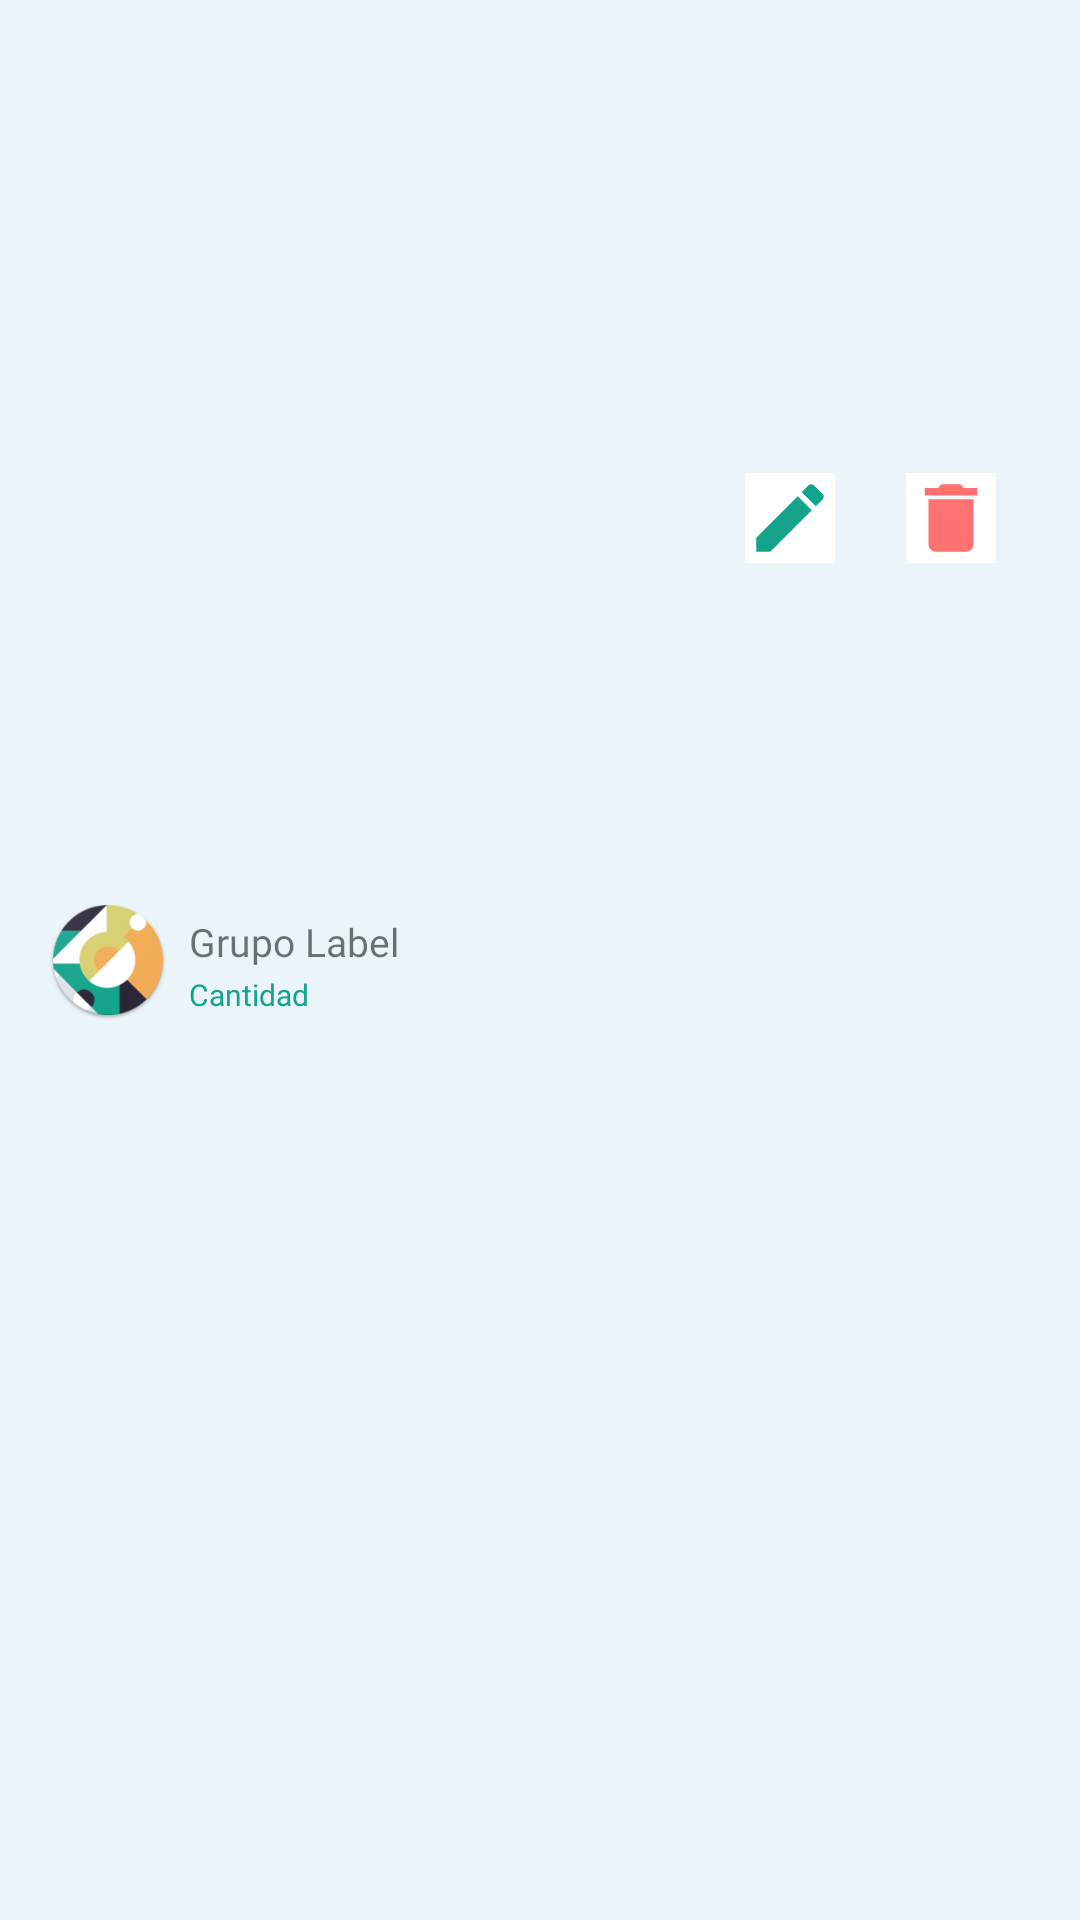

Named icons in this screenshot (1080*1920) and their bounding boxes, (x1,y1,x2,y2):
delete: (924,484,978,552)
edit: (745,473,835,563)
